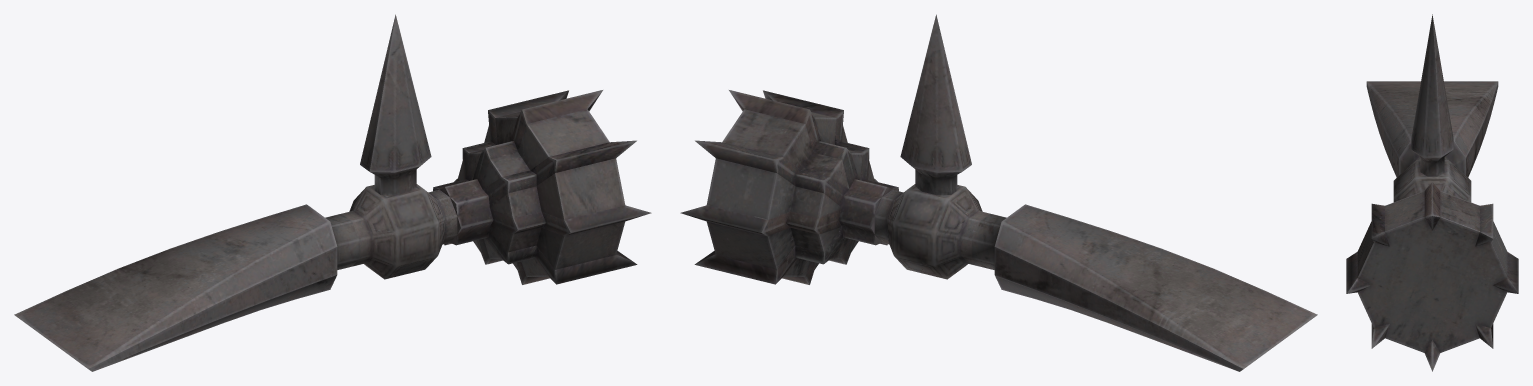
The model's file is sm_dwarf_iron_mattock_blade_c.fbx.
3 views of the same model, side by side, from view 1: azimuth 30°, elevation 25°; view 2: azimuth 150°, elevation 25°; view 3: azimuth 270°, elevation 25° (orthographic). The views are drawn at different scales.
Parts seen in each view (by area): view 1: sm_dwarf_iron_mattock_blade_c; view 2: sm_dwarf_iron_mattock_blade_c; view 3: sm_dwarf_iron_mattock_blade_c.
Boxes of the visible parts, left/top/right/bottom form: sm_dwarf_iron_mattock_blade_c: left=14, top=14, right=651, bottom=371; sm_dwarf_iron_mattock_blade_c: left=680, top=14, right=1317, bottom=371; sm_dwarf_iron_mattock_blade_c: left=1346, top=14, right=1518, bottom=371.
Size of the model in its own units: 0.6785 by 0.2062 by 0.3546.
1 material, 1 textured.
